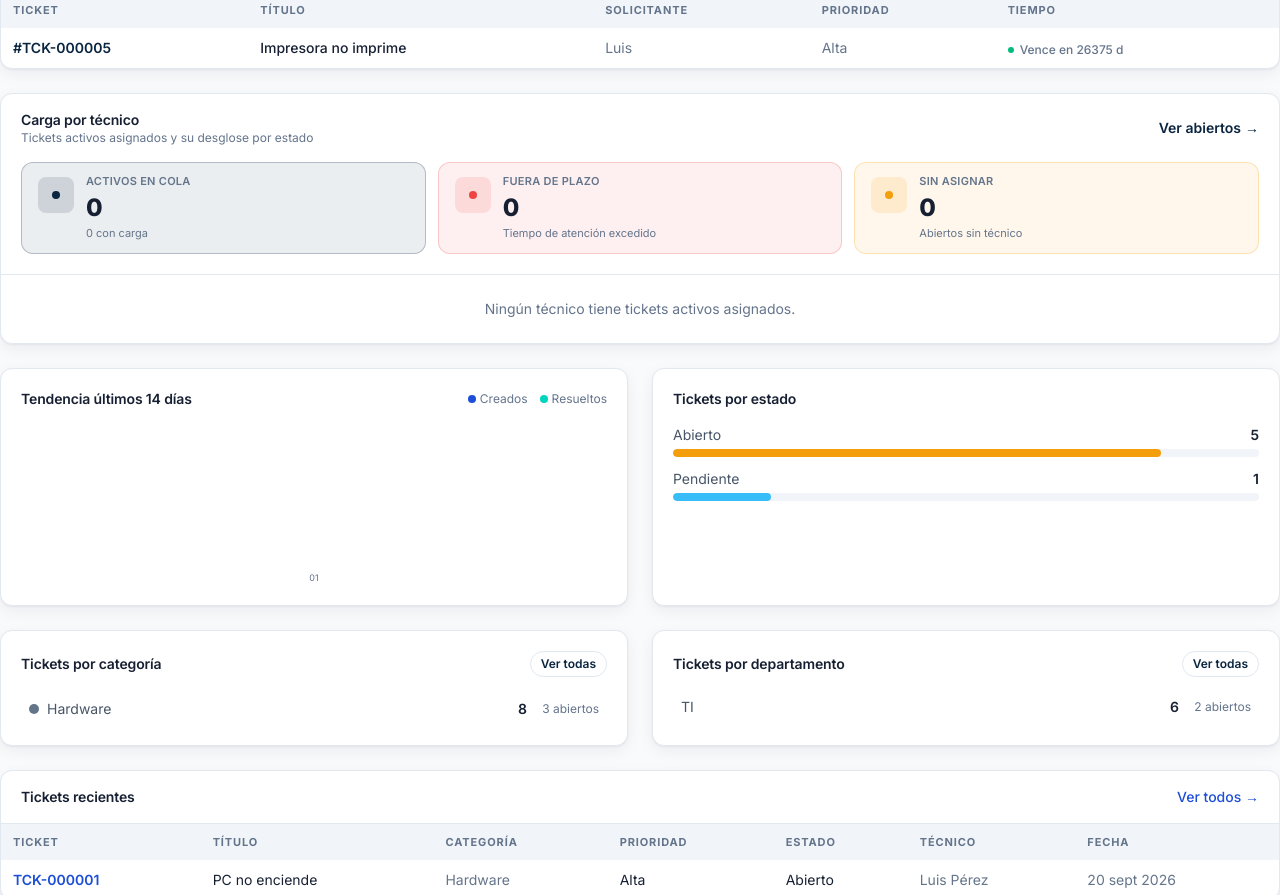
Dashboard · navegación a Tickets › oculta los departamentos sin tickets abiertos y permite verlos todos
(page scrolled)
Check: the link "TI 6 2 abiertos" is shown, box [673,692,1259,720]
Check: the link "Finanzas" is not shown
Click the button "Ver todas" in the row of "Tickets por departamento" at {"x": 1220, "y": 664}, box [1182,650,1259,676]
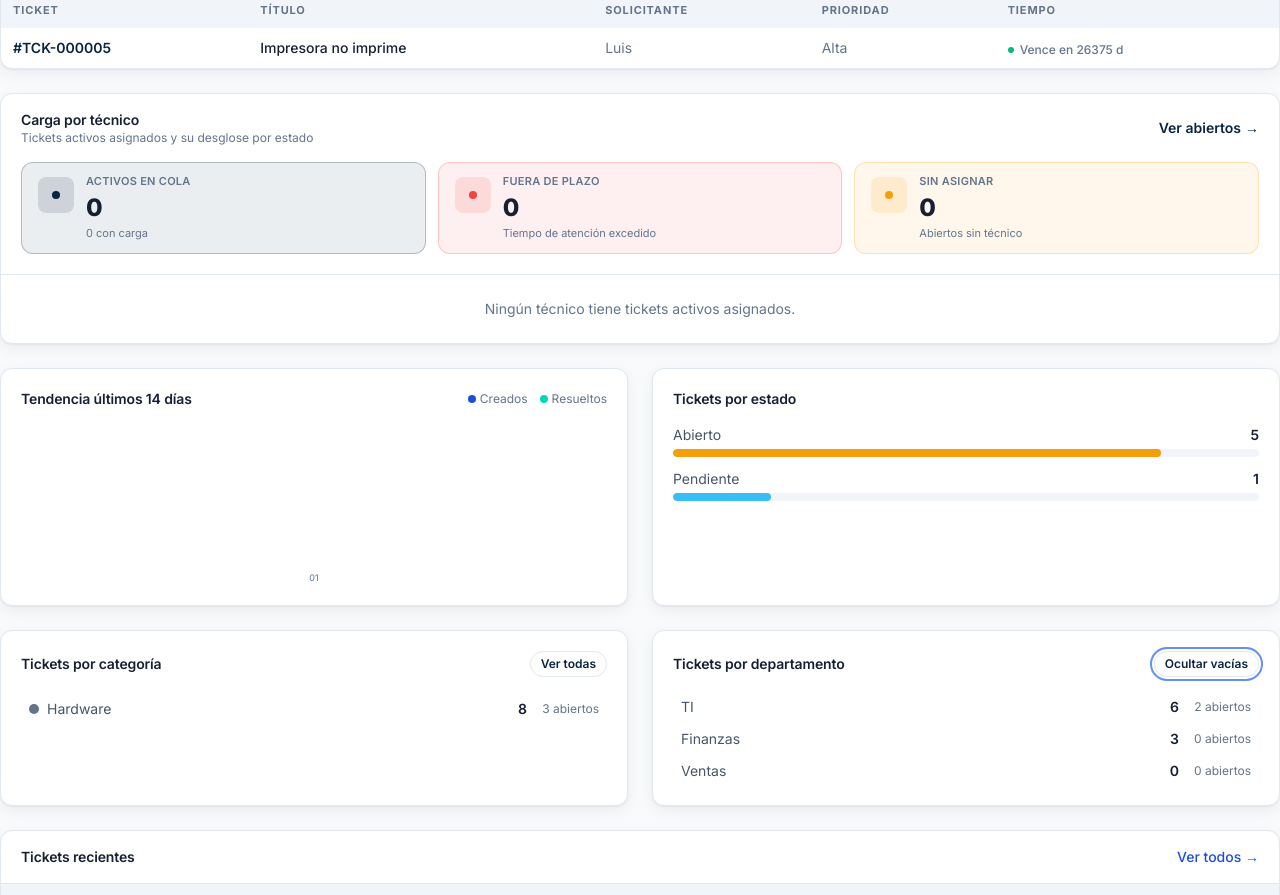
Check: the link "Finanzas 3 0 abiertos" is shown, box [673,724,1259,752]
Check: the link "Ventas 0 0 abiertos" is shown, box [673,756,1259,784]
